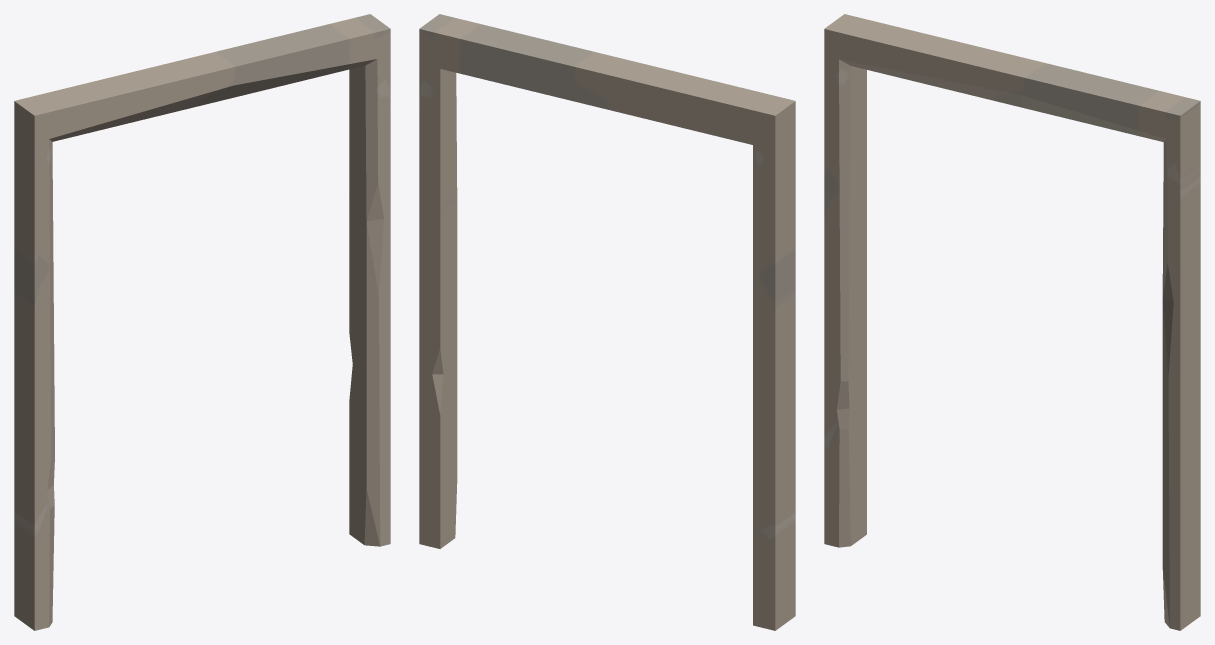
The model's file is SM_Bld_Shop_Door_04.glb.
3 views of the same model, side by side, from view 1: azimuth 30°, elevation 25°; view 2: azimuth 150°, elevation 25°; view 3: azimuth 330°, elevation 25° (orthographic).
Parts seen in each view (by area): view 1: SM_Bld_Shop_Door_04; view 2: SM_Bld_Shop_Door_04; view 3: SM_Bld_Shop_Door_04.
Part boxes in pixels (x1,y1,x2,y2): SM_Bld_Shop_Door_04: (14,14,390,630); SM_Bld_Shop_Door_04: (419,14,795,630); SM_Bld_Shop_Door_04: (824,14,1200,630).
Bounding box in the file's own units: 2.33 × 3.23 × 0.2314.
1 material, 1 textured.
